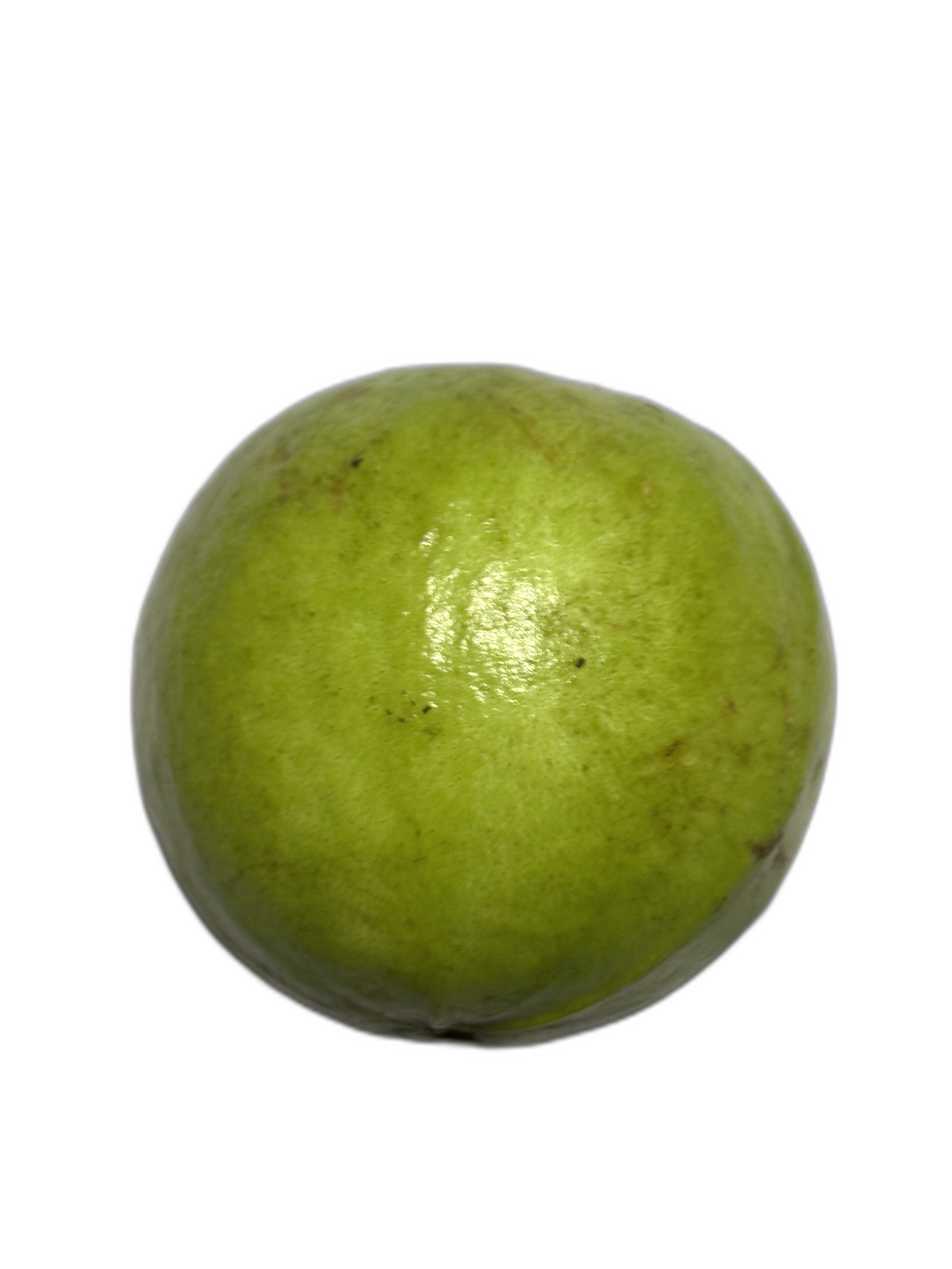guava: (102, 90, 689, 1157)
